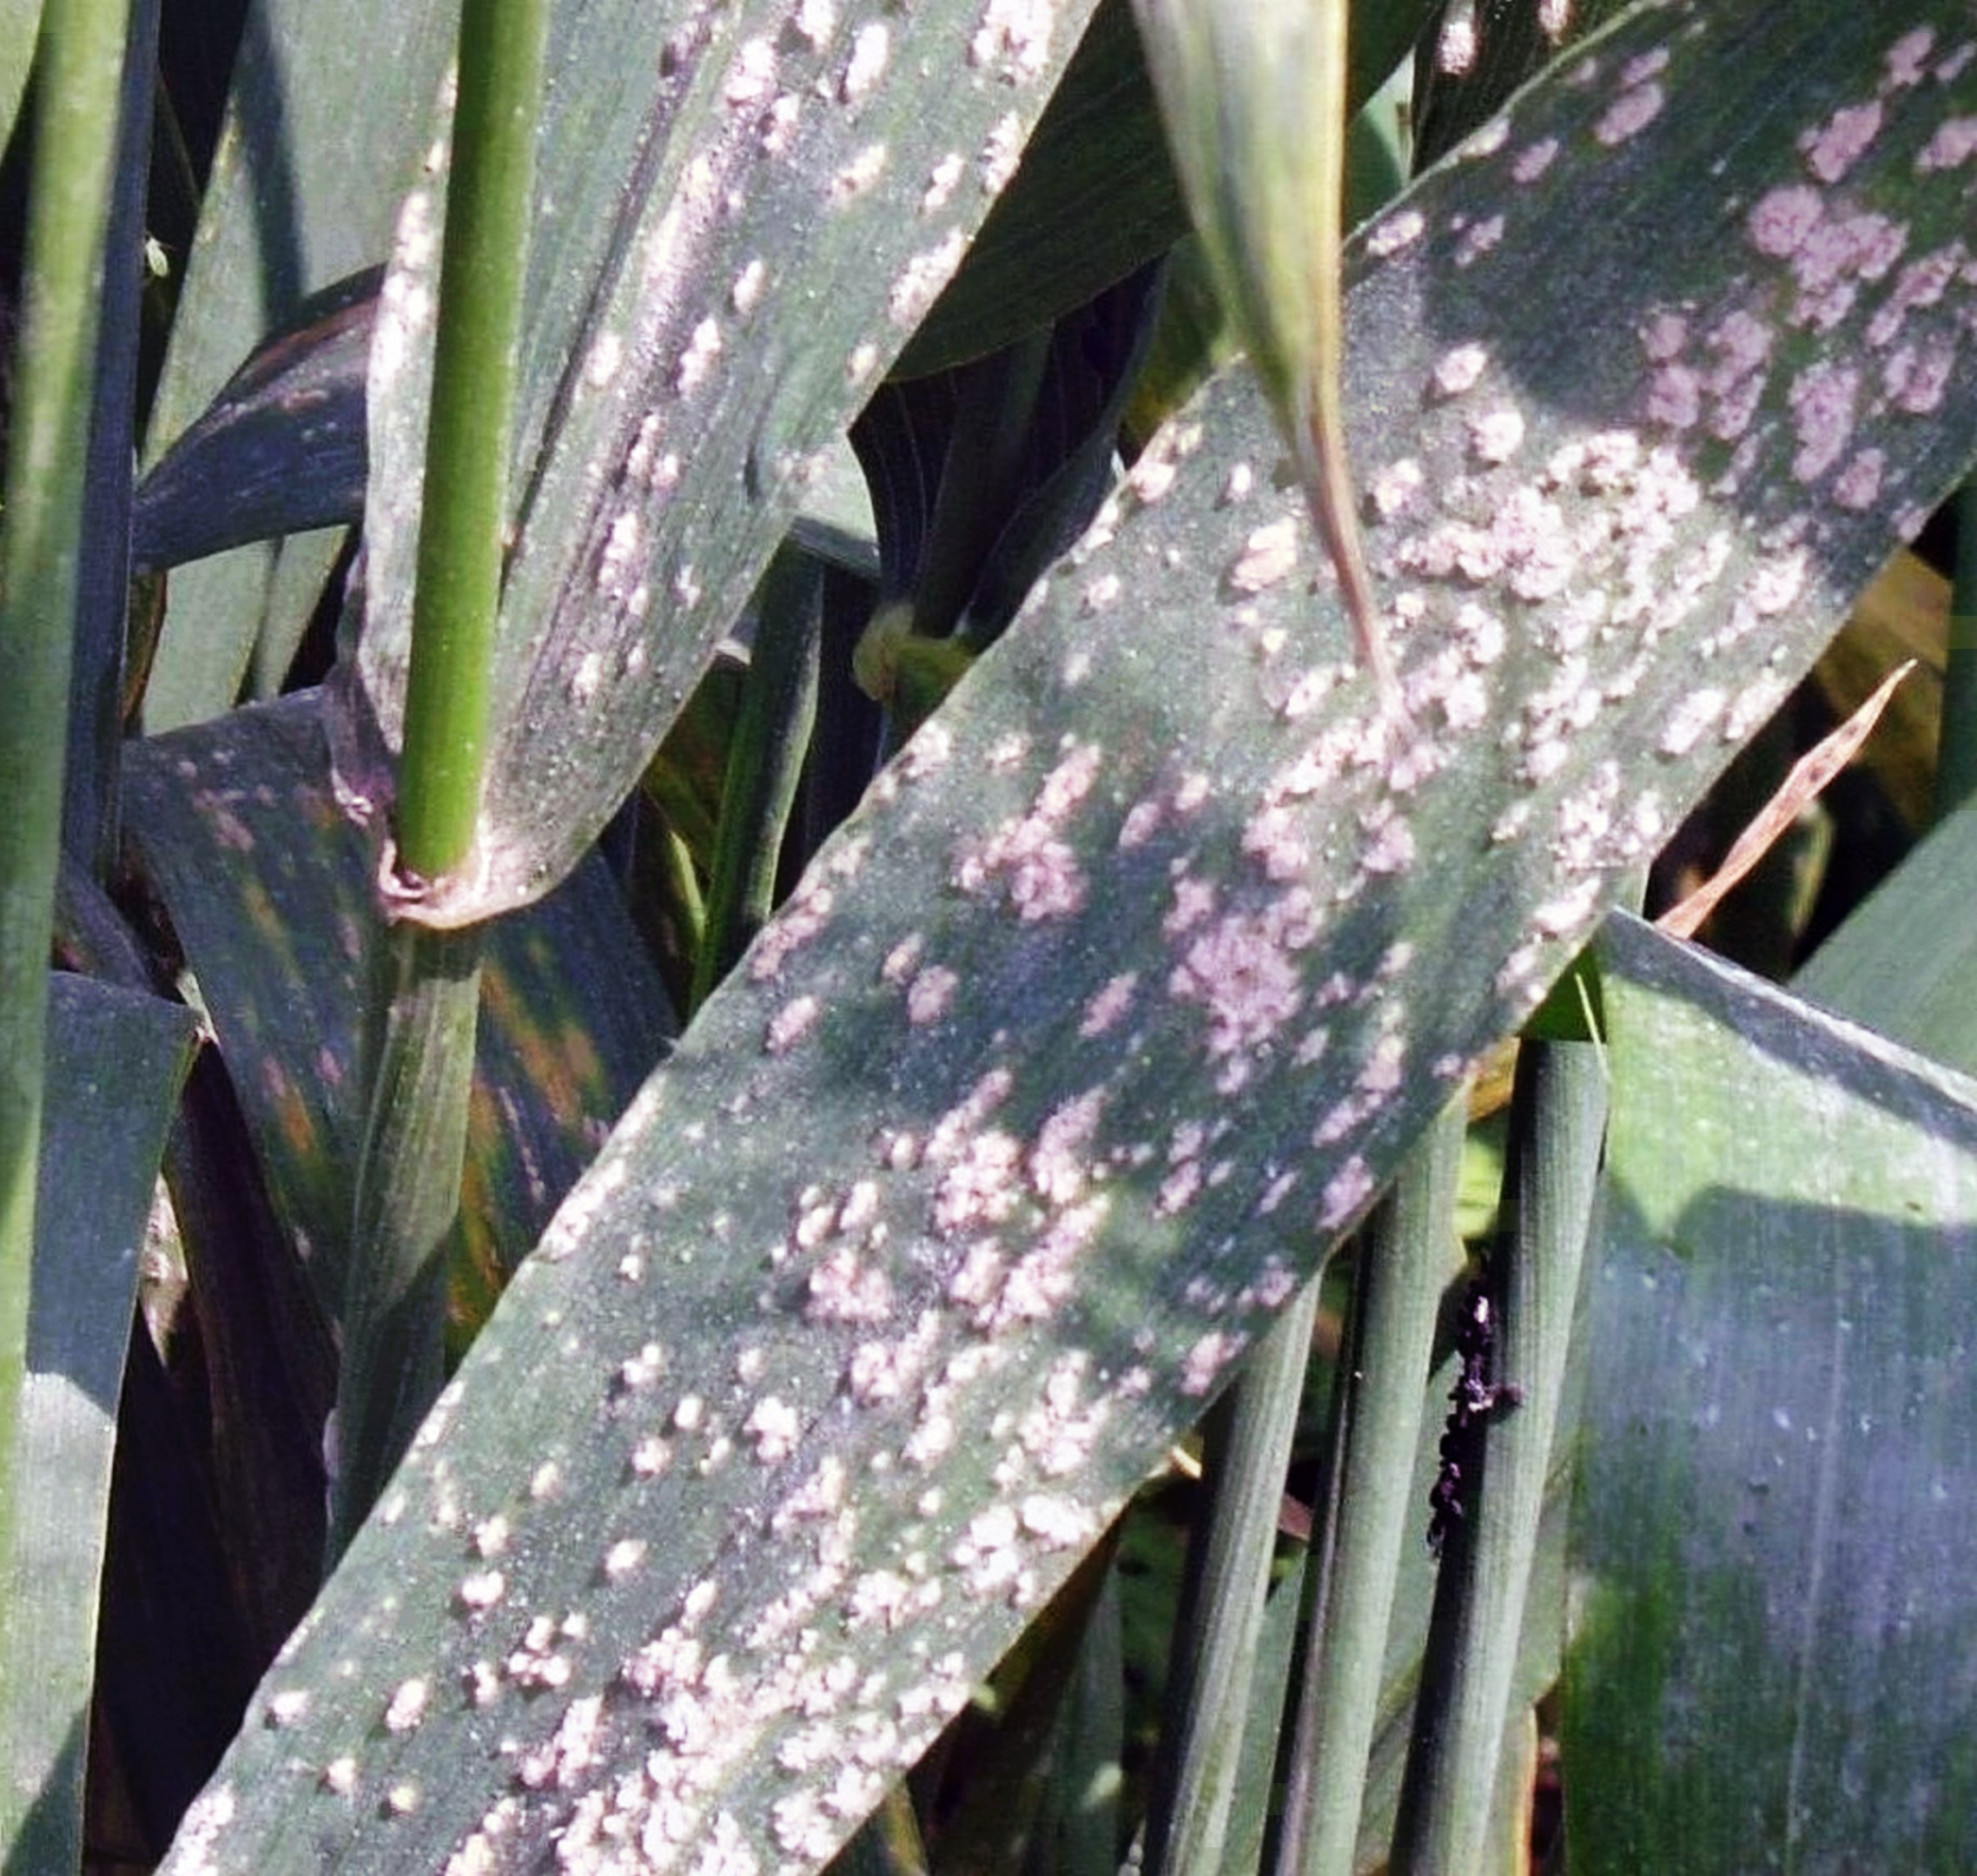Powdery Mildew: (534, 252, 1875, 1754)
